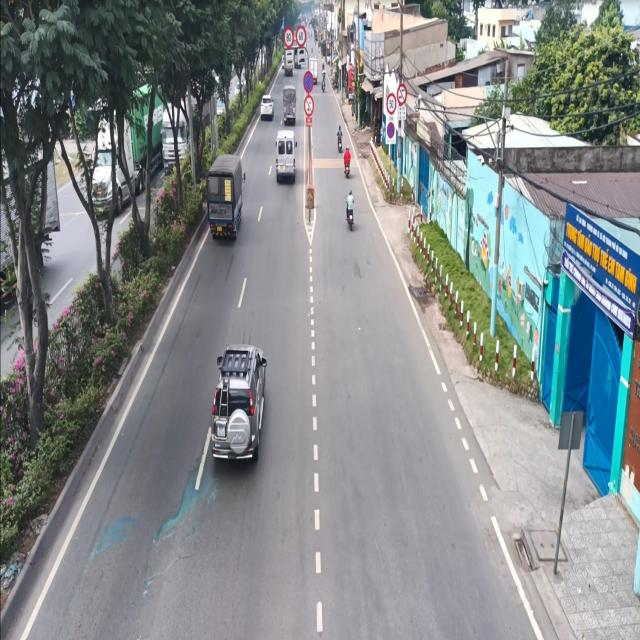car: (202, 336, 273, 468), (272, 126, 300, 188), (261, 90, 277, 118)
motor: (344, 190, 357, 229)
truck: (204, 145, 244, 239), (281, 78, 298, 125)
